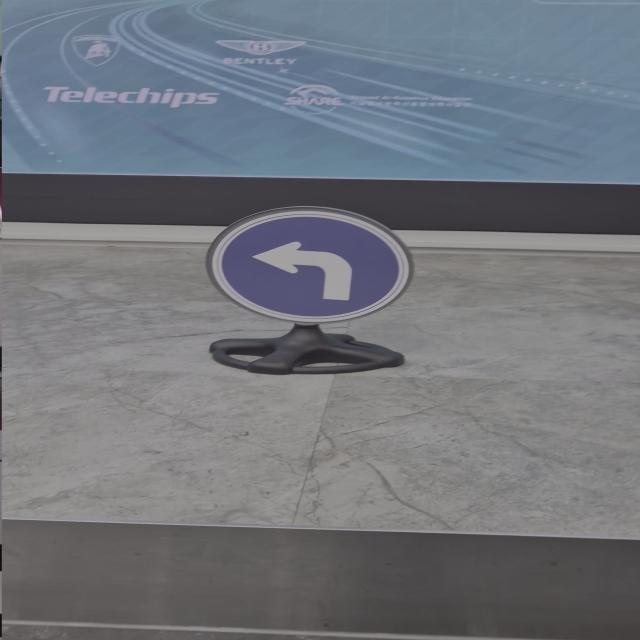left_direction: (175, 181, 444, 341)
